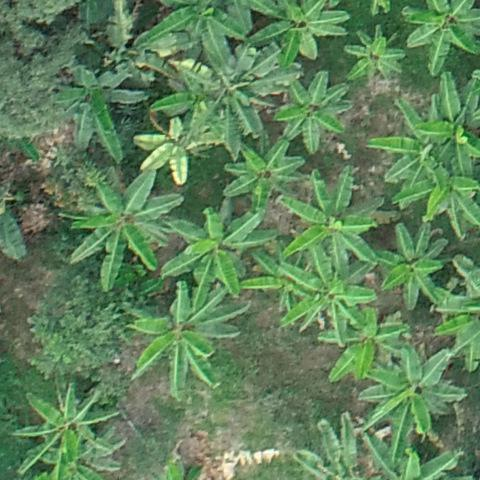Banana-plant: (125, 280, 241, 409), (69, 174, 178, 289), (162, 197, 279, 299), (282, 164, 387, 274), (191, 57, 284, 153), (137, 0, 259, 71), (64, 67, 151, 161), (25, 387, 122, 471), (374, 346, 464, 433), (367, 91, 447, 188), (375, 216, 445, 315), (289, 257, 364, 342), (269, 0, 356, 69), (227, 135, 304, 211), (278, 73, 348, 156), (328, 306, 404, 382), (402, 156, 477, 231), (402, 0, 480, 71), (435, 256, 480, 377), (425, 78, 480, 176), (137, 115, 212, 186), (345, 25, 400, 89)
